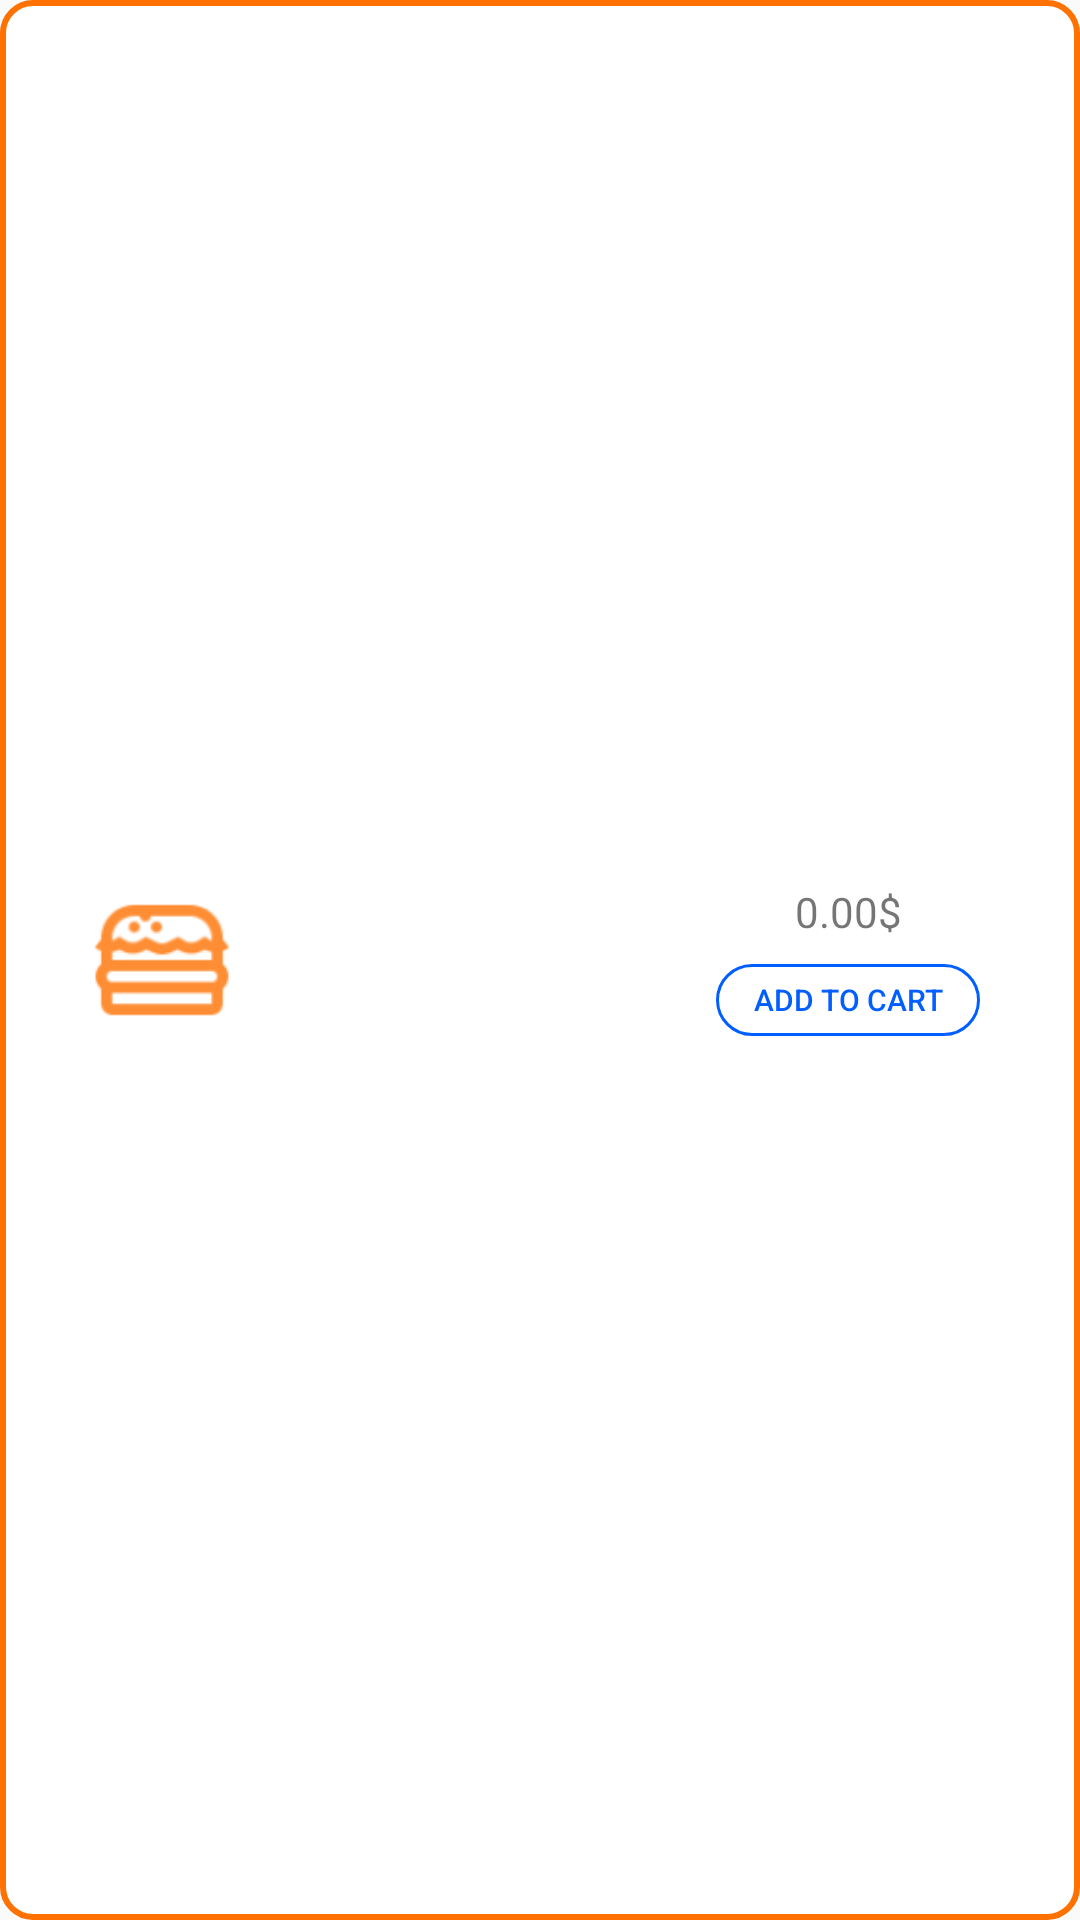

Icon bounding boxes for this 1080w x 1920h phone screenshot, format rect(x1, y1, x2, y2):
Item Image: rect(95, 904, 229, 1016)
